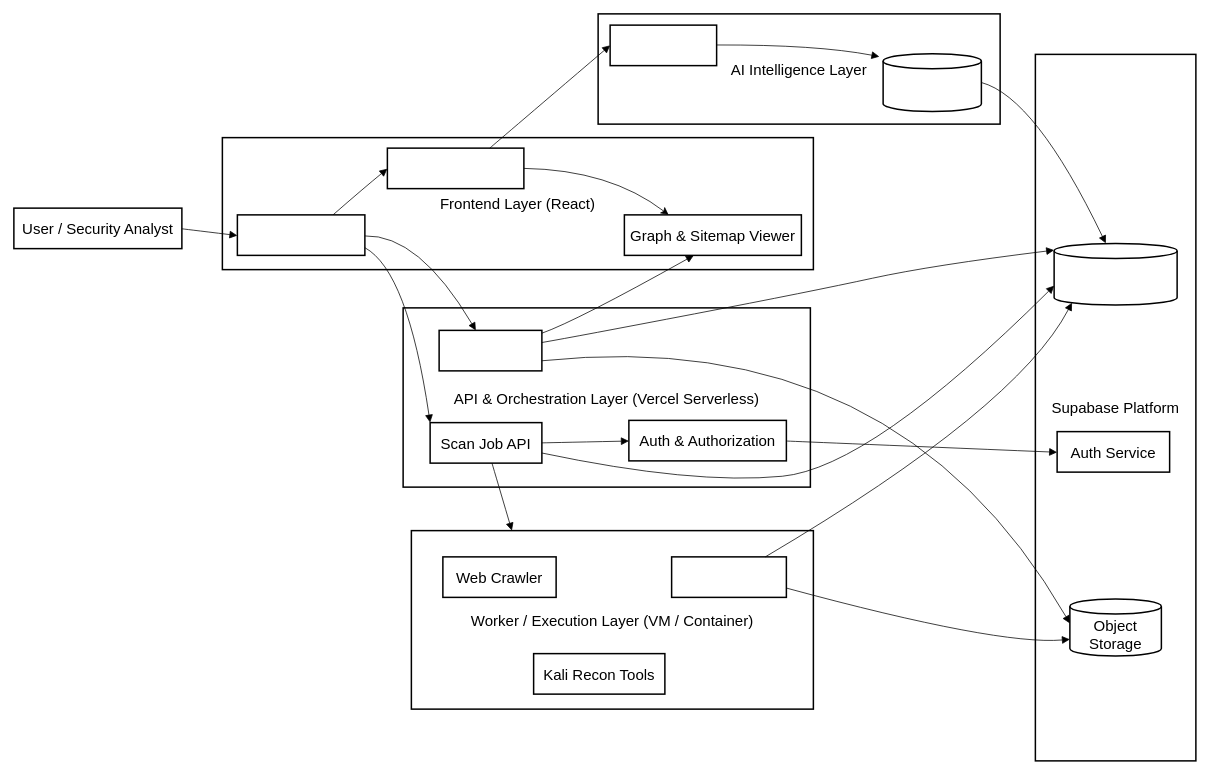
The diagram is 1209 pixels wide and 774 high, and some of its shapes have lost their labels. The shapes that lost their labels are listed below. From the top down, each one's centre as x and y in pixels, then its label:
At [663,45]: "RAG Engine".
At [932,82]: "Vector Database".
At [455,168]: "AI Chat Interface".
At [300,235]: "Dashboard & UI".
At [1115,273]: "PostgreSQL Database".
At [490,350]: "Results API".
At [728,577]: "Result Parser".
